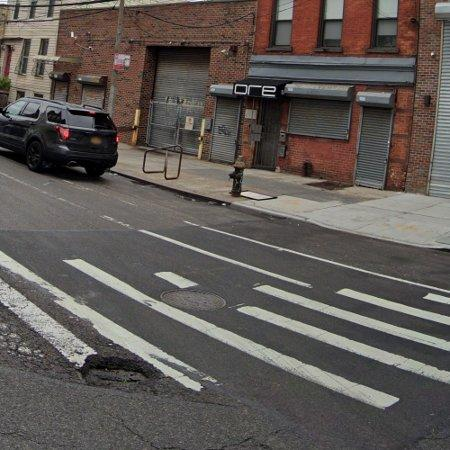crosswalks: (0, 248, 450, 410)
